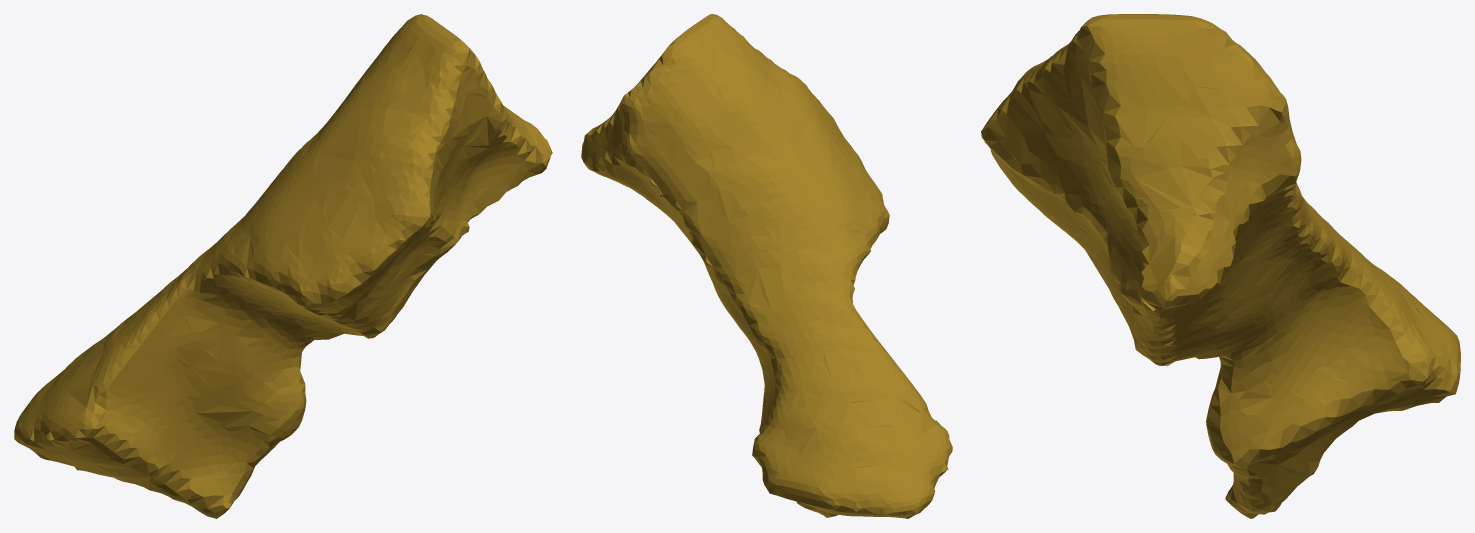
The model's file is Model_10073_LH__Area_47_(old_12)_of_cortex__lateral_part_(A47L).obj.
The picture shows the model from 3 angles, left to right: view 1: azimuth 30°, elevation 25°; view 2: azimuth 150°, elevation 25°; view 3: azimuth 270°, elevation 25°; orthographic projection. The views are drawn at different scales.
Bounding box in the file's own units: 4.84 × 4.77 × 3.35.
